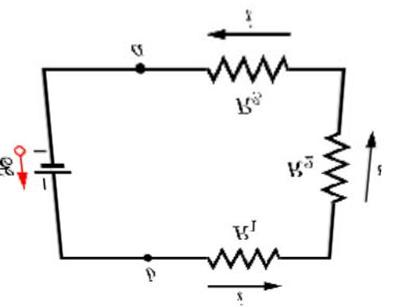resistor: (196, 42, 300, 85), (315, 128, 354, 216), (196, 237, 286, 275)
